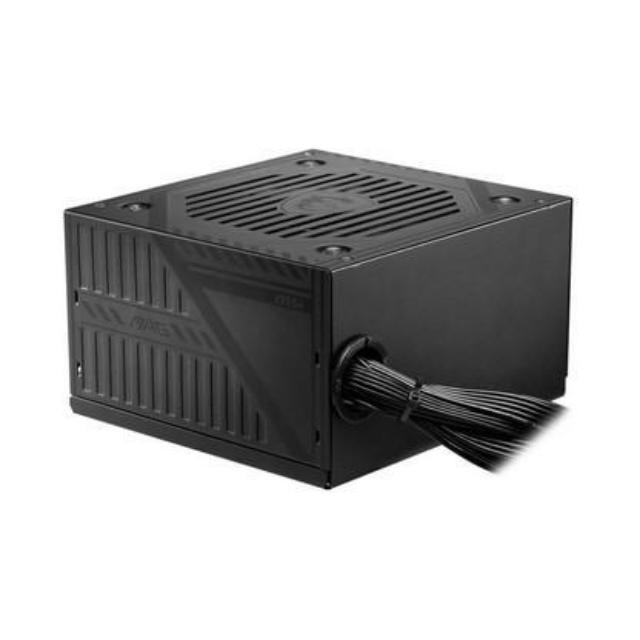PSU: (50, 118, 595, 493)
